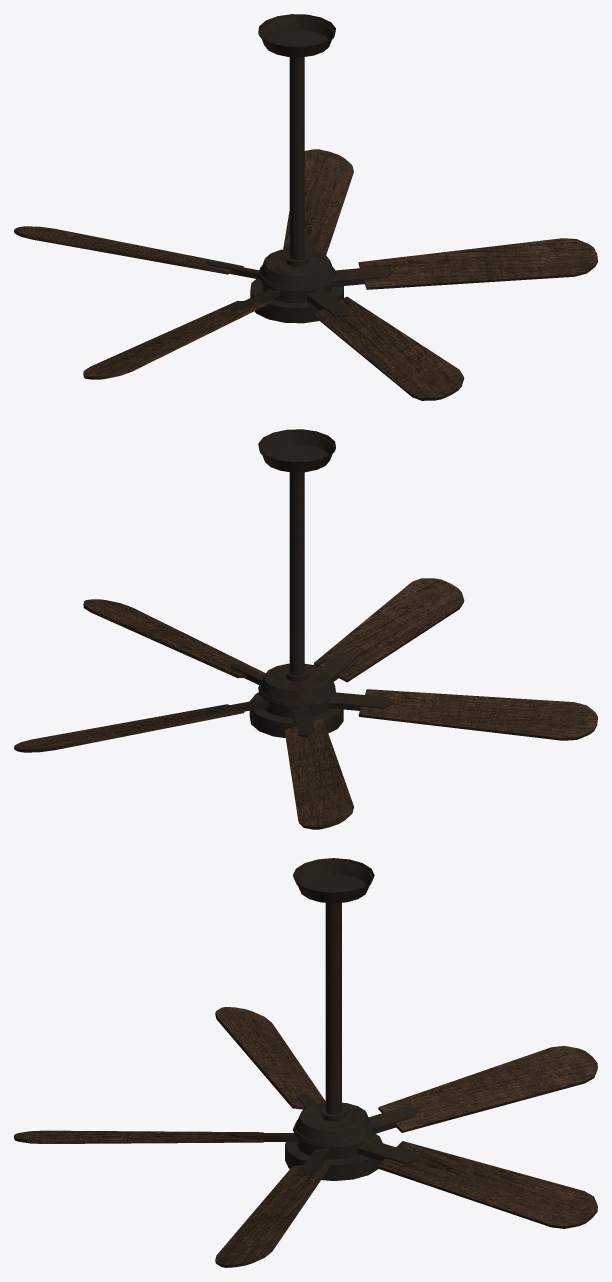
Rendered from ceiling_fan_mp_2.glb.
3 renders of one model, top to bottom at view 1: azimuth 30°, elevation 25°; view 2: azimuth 150°, elevation 25°; view 3: azimuth 270°, elevation 25°, orthographic. The views are drawn at different scales.
Visible parts, largest first — view 1: ceiling_fan_mp_2_blades, ceiling_fan_mp_2; view 2: ceiling_fan_mp_2_blades, ceiling_fan_mp_2; view 3: ceiling_fan_mp_2_blades, ceiling_fan_mp_2.
Part boxes in pixels (<box>): ceiling_fan_mp_2_blades: <box>14,149,597,400</box>; ceiling_fan_mp_2: <box>250,14,343,323</box>; ceiling_fan_mp_2_blades: <box>14,578,597,829</box>; ceiling_fan_mp_2: <box>249,429,343,737</box>; ceiling_fan_mp_2_blades: <box>14,1007,597,1267</box>; ceiling_fan_mp_2: <box>285,858,382,1180</box>.
Size of the model in its own units: 1.11 by 0.5915 by 1.06.
2 materials, 2 textured.
